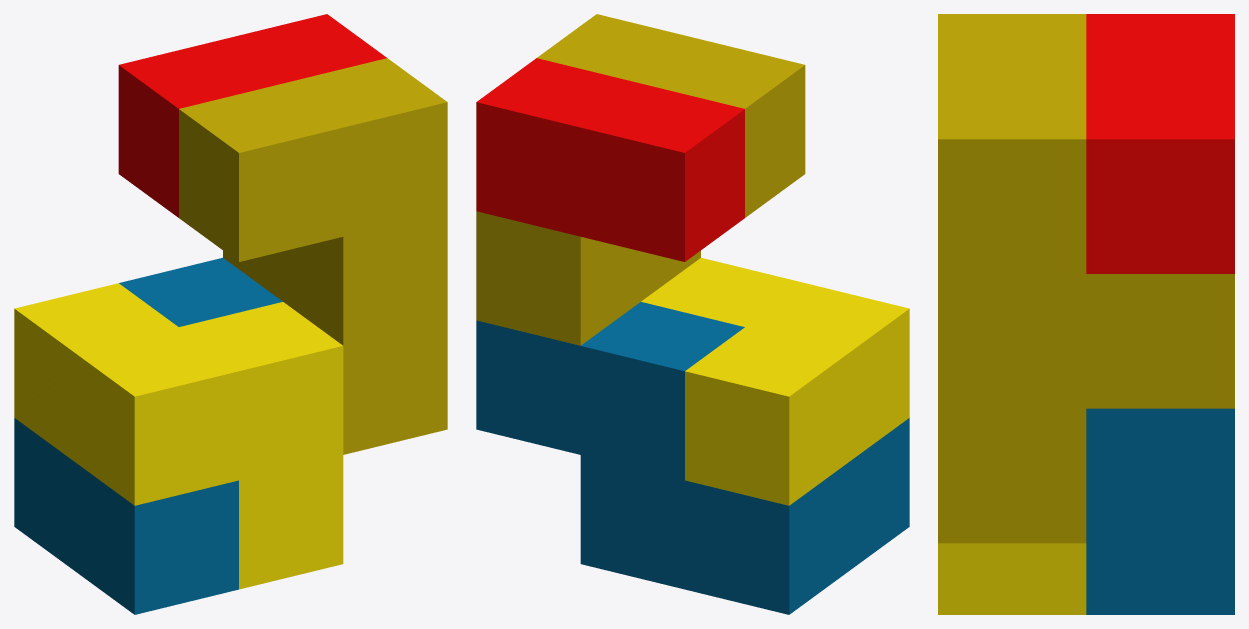
3 renders of one model, left to right at view 1: azimuth 30°, elevation 25°; view 2: azimuth 150°, elevation 25°; view 3: azimuth 270°, elevation 25°, orthographic. The views are drawn at different scales.
Visible parts, largest first — view 1: mergedBlocks(Clone); view 2: mergedBlocks(Clone); view 3: mergedBlocks(Clone).
Part boxes in pixels (x1=…): mergedBlocks(Clone): x1=14, y1=14, x2=447, y2=614; mergedBlocks(Clone): x1=476, y1=14, x2=909, y2=614; mergedBlocks(Clone): x1=938, y1=14, x2=1234, y2=614.
Bounding box in the file's own units: 3 × 4 × 2.
4 materials, 4 textured.
